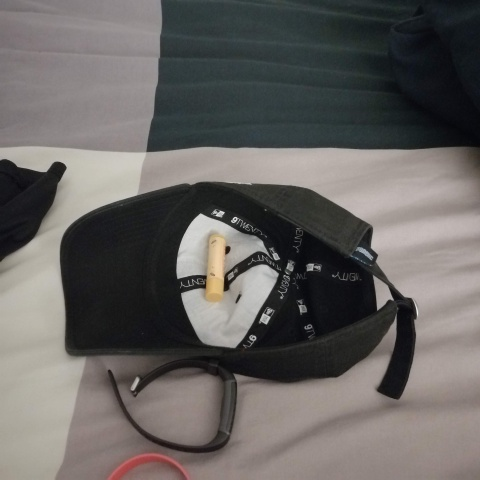chapstick: (204, 234, 227, 302)
